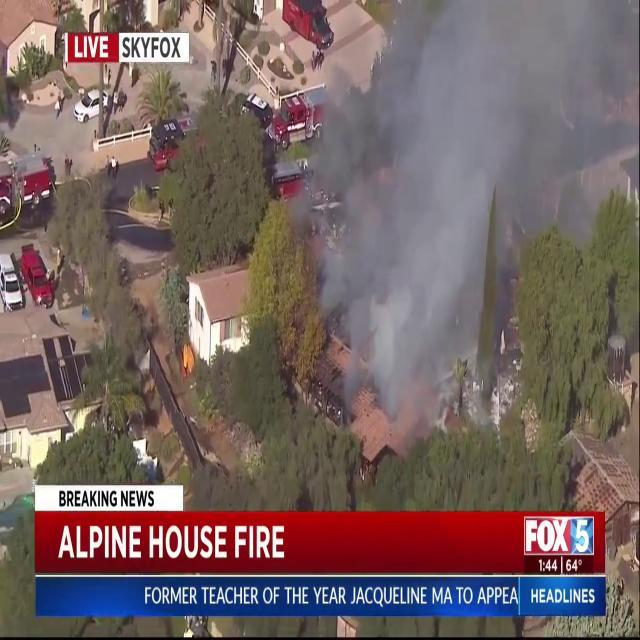Smoke: (301, 0, 635, 435)
